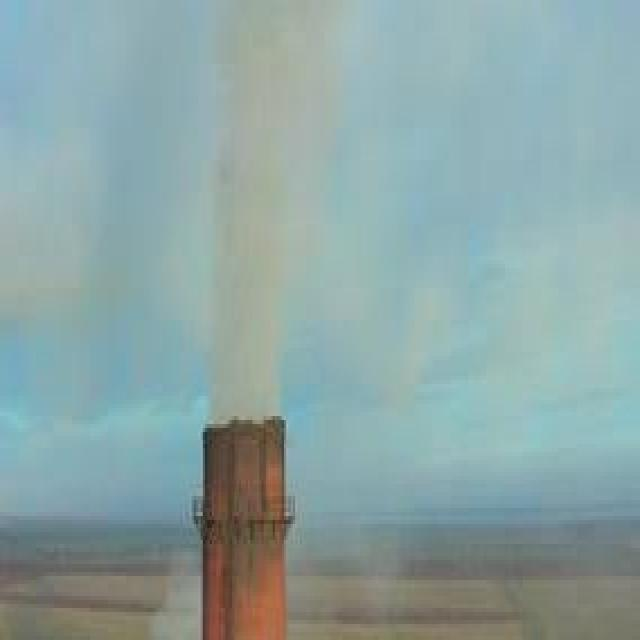Smoke: (72, 1, 436, 422)
